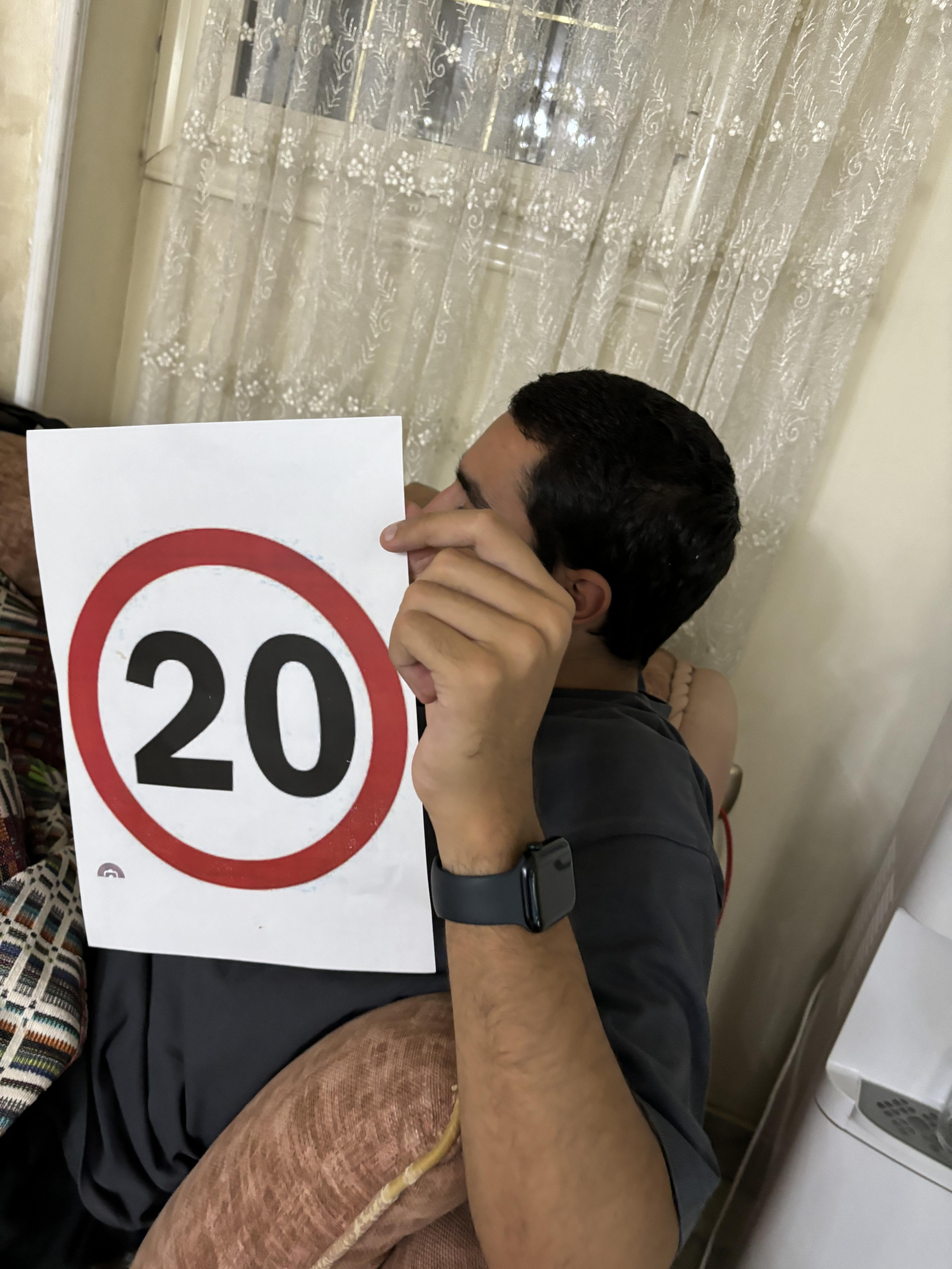20-Speed: (60, 525, 413, 877)
